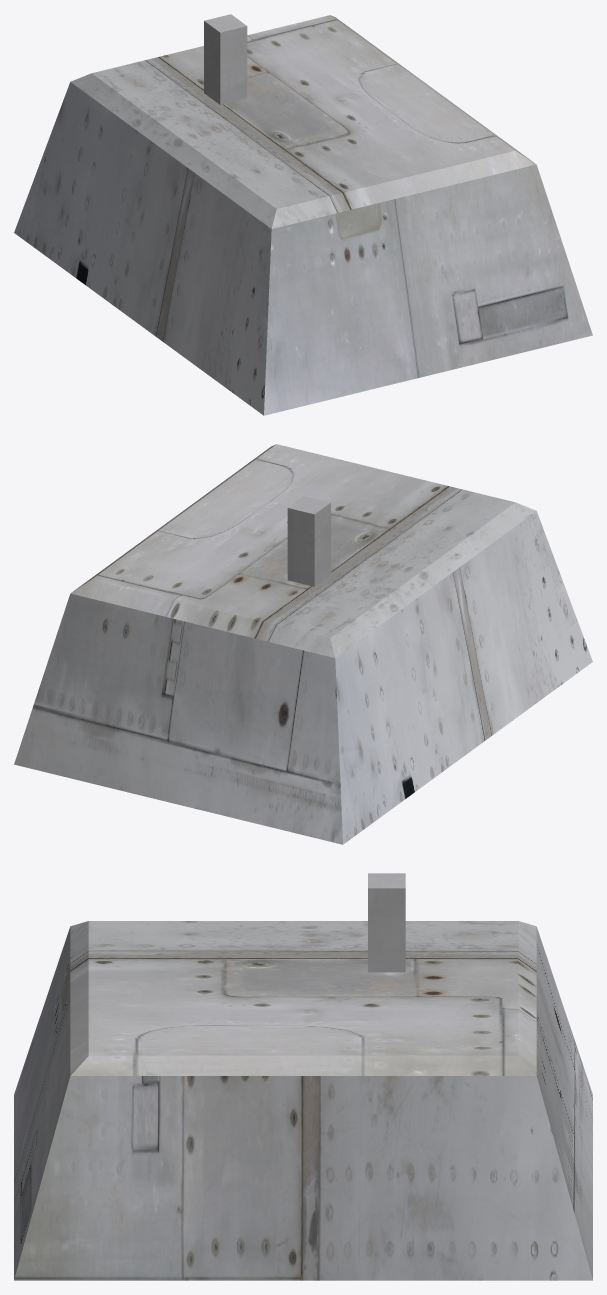
The model's file is placeholder_machine.glb.
3 renders of one model, top to bottom at view 1: azimuth 30°, elevation 25°; view 2: azimuth 150°, elevation 25°; view 3: azimuth 270°, elevation 25°, orthographic. The views are drawn at different scales.
Visible parts, largest first — view 1: Cube; view 2: Cube; view 3: Cube.
Boxes of the visible parts, x1,y1,x2,y2 form: Cube: (14,14,592,415); Cube: (14,444,592,844); Cube: (14,873,592,1280).
Size of the model in its own units: 1.75 by 1.24 by 2.3.
1 material, 1 textured.
